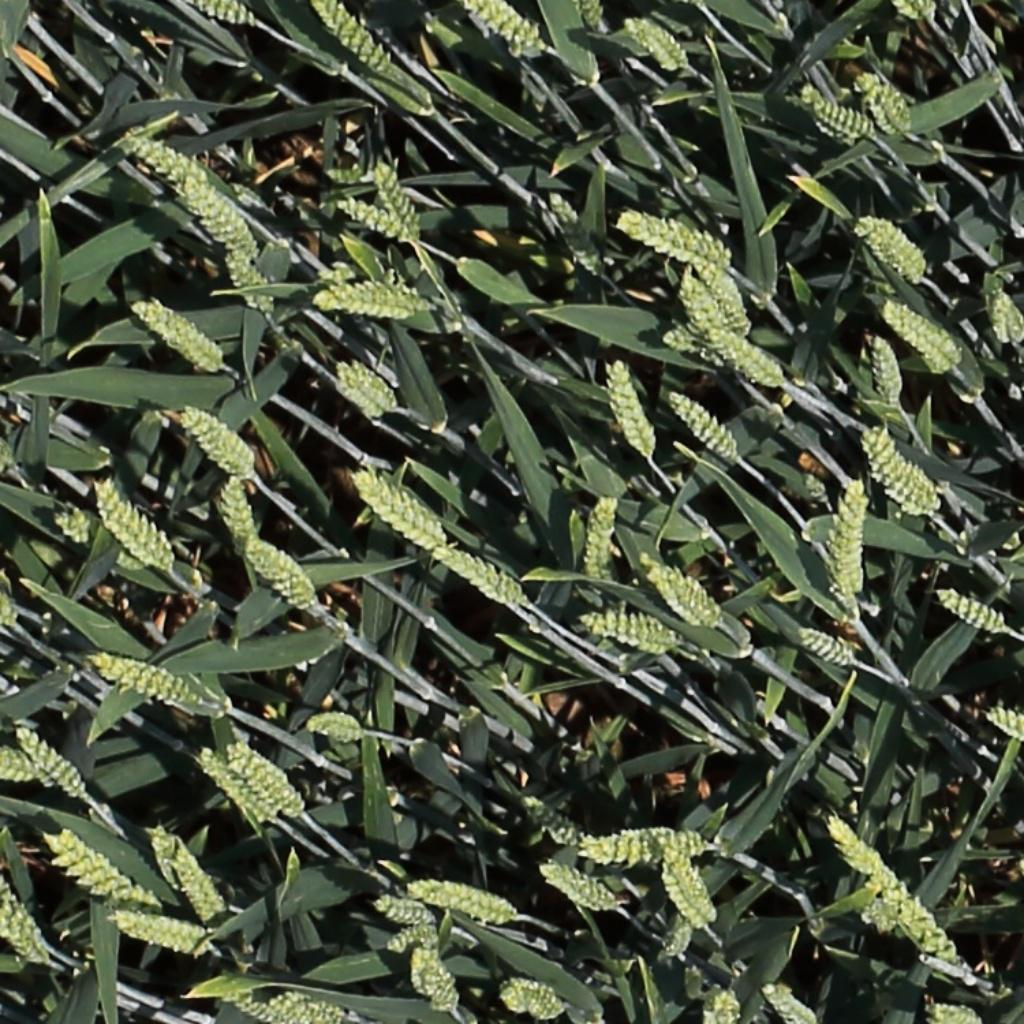0-0: (826, 812, 984, 978), (309, 0, 412, 84), (50, 834, 155, 910), (91, 477, 174, 573), (862, 421, 940, 518), (353, 471, 447, 551), (182, 172, 263, 263), (245, 542, 338, 614), (133, 297, 223, 370), (12, 723, 91, 805), (219, 982, 372, 1024), (546, 182, 611, 279), (307, 276, 435, 325), (826, 480, 872, 611), (619, 210, 731, 263), (199, 750, 277, 826), (667, 387, 745, 462), (92, 655, 202, 707), (225, 744, 304, 816), (607, 354, 659, 462), (679, 260, 744, 346), (436, 546, 528, 606), (180, 405, 256, 477), (647, 559, 722, 628), (587, 819, 700, 864), (883, 301, 959, 367), (660, 845, 716, 932), (860, 212, 929, 282), (709, 326, 787, 386), (221, 238, 278, 318), (371, 152, 424, 237), (854, 68, 920, 136), (124, 131, 208, 184), (414, 874, 523, 913), (177, 834, 227, 919), (466, 0, 544, 54), (540, 865, 619, 914), (625, 13, 692, 70), (110, 912, 210, 950), (412, 939, 460, 1017), (805, 87, 879, 136), (334, 193, 413, 238), (581, 615, 681, 649), (222, 468, 258, 561), (335, 361, 398, 413), (869, 327, 907, 413), (587, 488, 619, 589), (936, 589, 1008, 633), (0, 885, 38, 967), (497, 968, 560, 1016), (653, 325, 718, 371), (145, 820, 183, 896), (985, 273, 1022, 349), (522, 797, 582, 842), (798, 629, 861, 667), (302, 704, 368, 740), (763, 981, 817, 1024), (686, 984, 741, 1024), (659, 910, 699, 965), (374, 897, 436, 927), (0, 735, 36, 783), (51, 510, 92, 548), (197, 0, 259, 25), (387, 927, 441, 955), (576, 0, 610, 39), (984, 708, 1024, 741), (929, 1002, 980, 1024), (899, 0, 937, 27)
